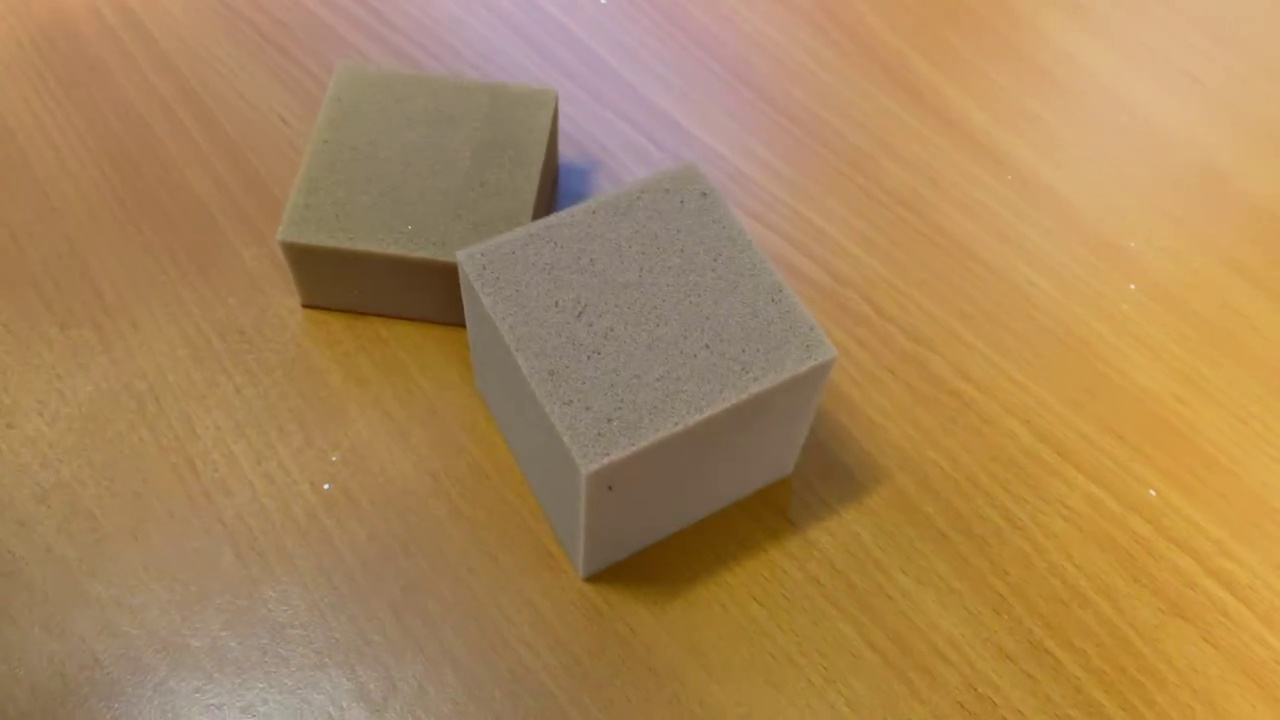Cube: (448, 157, 844, 588)
Cube_short: (271, 53, 568, 331)
